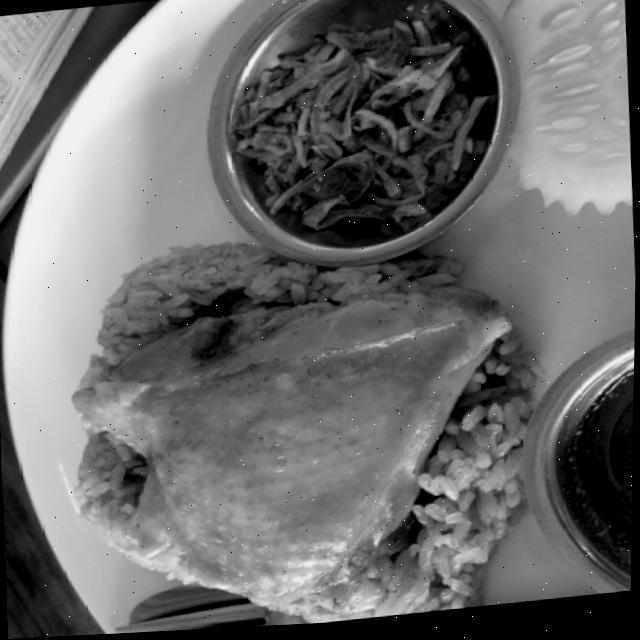米饭主食: (22, 207, 548, 639)
